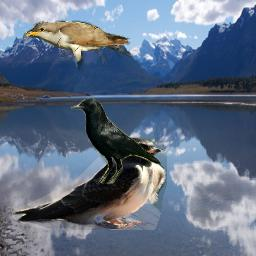Crow: (70, 98, 161, 184)
Cuckoo: (23, 20, 131, 71)
Swallow: (10, 137, 167, 230)
